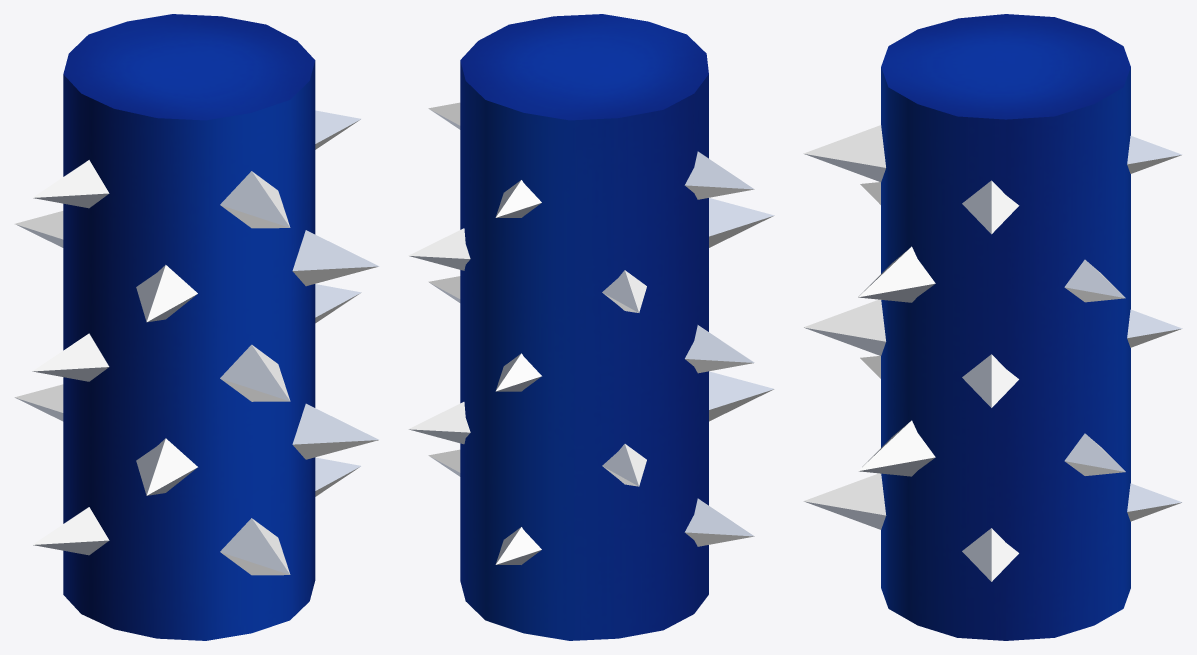
The model's file is Thorn.fbx.
The picture shows the model from 3 angles, left to right: view 1: azimuth 30°, elevation 25°; view 2: azimuth 150°, elevation 25°; view 3: azimuth 270°, elevation 25°; orthographic projection.
Visible parts, largest first — view 1: Down_Thorn; view 2: Down_Thorn; view 3: Down_Thorn.
Boxes of the visible parts, x1,y1,x2,y2 form: Down_Thorn: (14,14,379,640); Down_Thorn: (408,14,774,640); Down_Thorn: (803,14,1182,640).
Bounding box in the file's own units: 0.5944 × 0.9009 × 0.5944.
